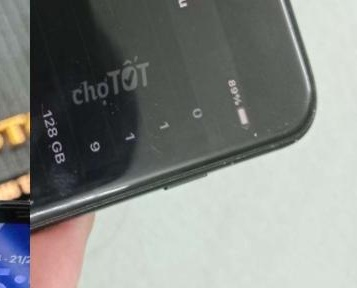scratch: (30, 184, 139, 268), (246, 112, 309, 148)
